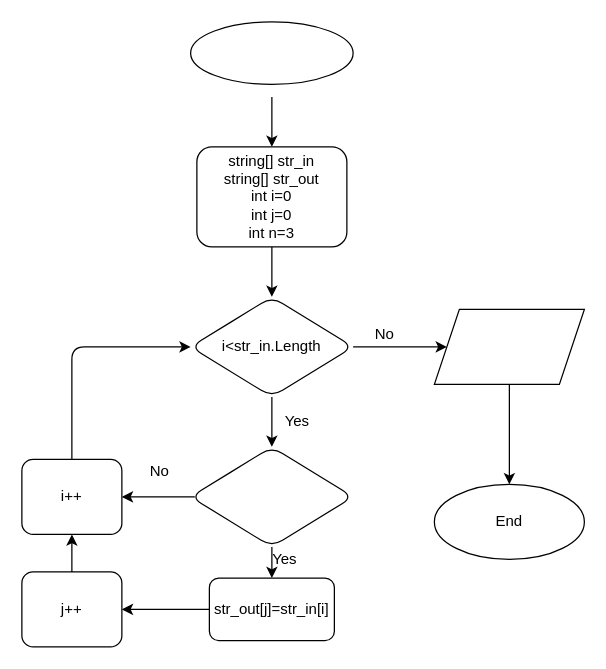
This 606x669 diagram has some shape labels left out. The shapes that lost their labels are listed below. From the top down, each one's centre as x and y in pixels, then its label:
point (271, 52): Start
point (508, 346): str_out
point (271, 496): str_in[i].Length<=n
